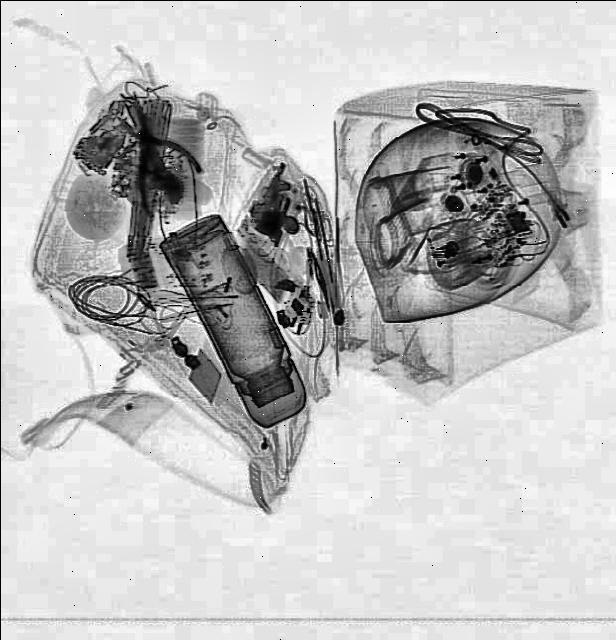Pliers: (90, 88, 212, 220)
